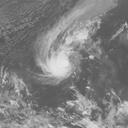cyclone: (35, 36, 74, 80)
